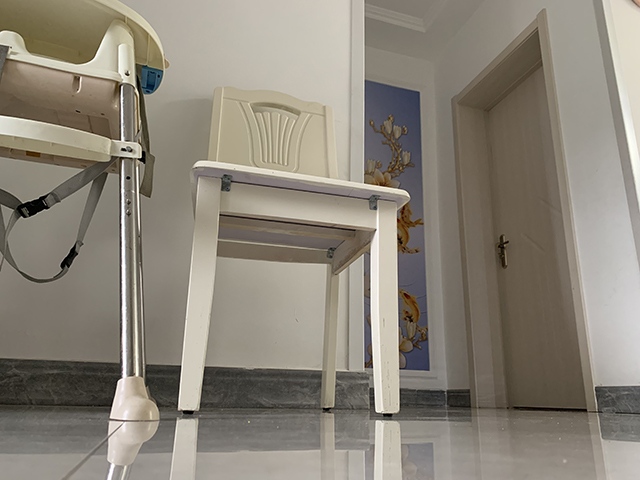stool: (175, 83, 412, 418), (1, 2, 172, 424)
